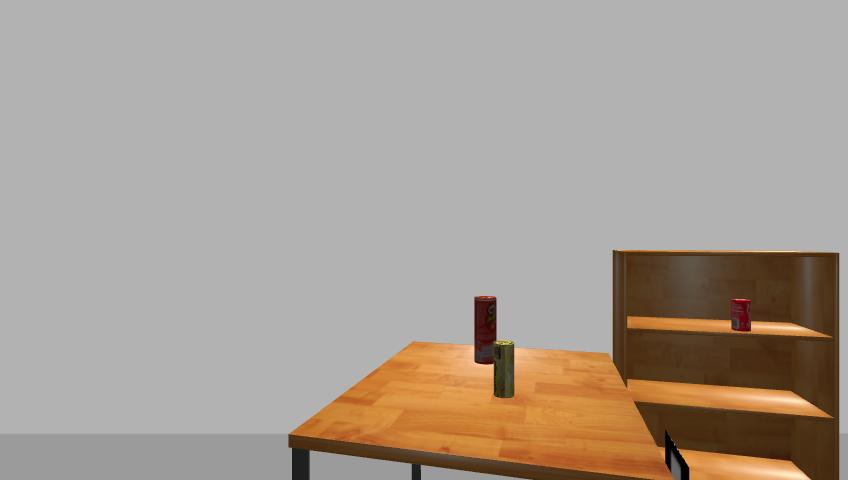aruco marker: (661, 431, 693, 480)
biscuits pack: (494, 340, 516, 399)
bookshelf: (607, 248, 847, 479)
coke can: (730, 299, 753, 332)
dinner table: (282, 340, 678, 480)
pringles can: (471, 295, 499, 366)
